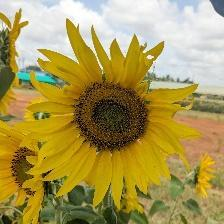sunflower: (37, 53, 181, 200)
